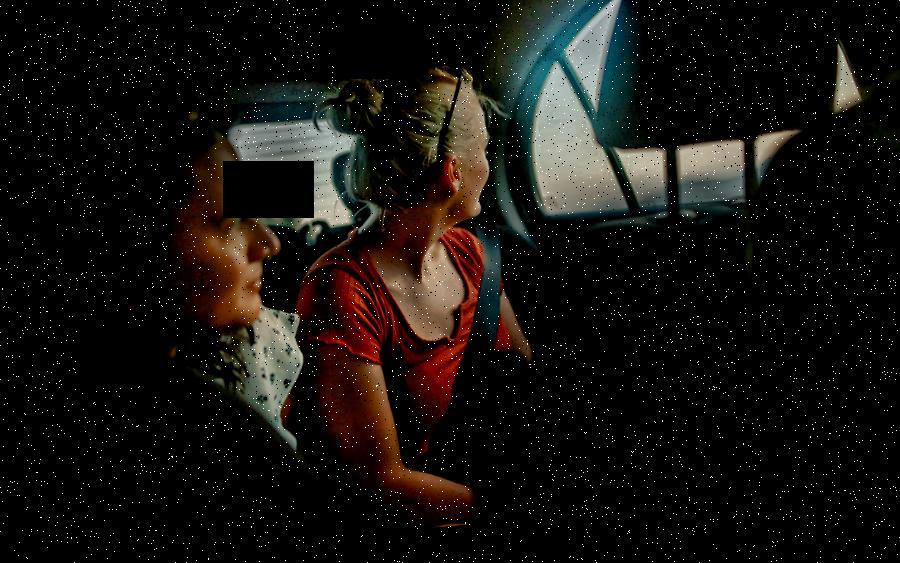seatbelt: (422, 196, 517, 475)
